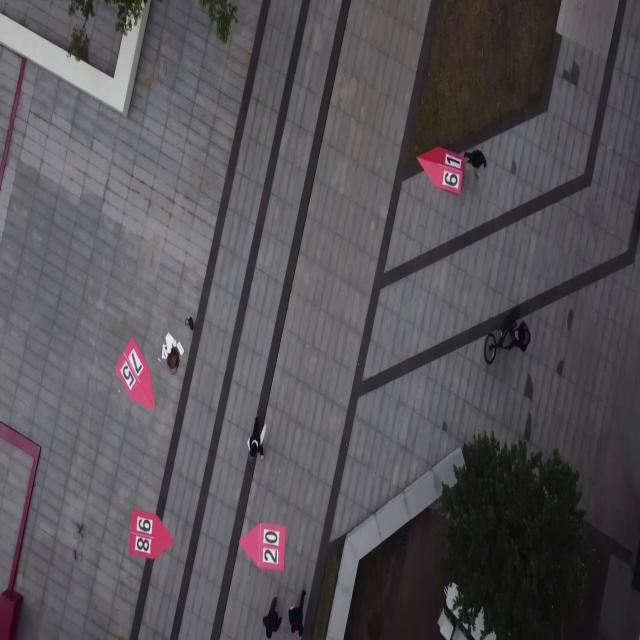-sign-: (111, 330, 161, 420), (411, 137, 472, 201), (235, 511, 291, 579), (128, 501, 180, 568)
